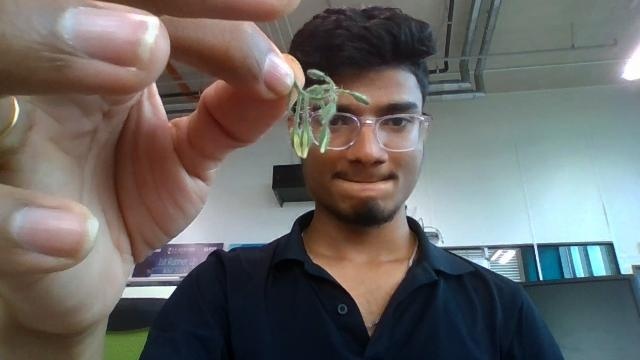Flower Bud: (318, 99, 337, 155), (292, 126, 311, 160), (334, 88, 370, 105), (305, 69, 333, 86), (290, 127, 303, 159), (306, 67, 328, 85), (319, 125, 331, 153), (319, 126, 330, 154)
